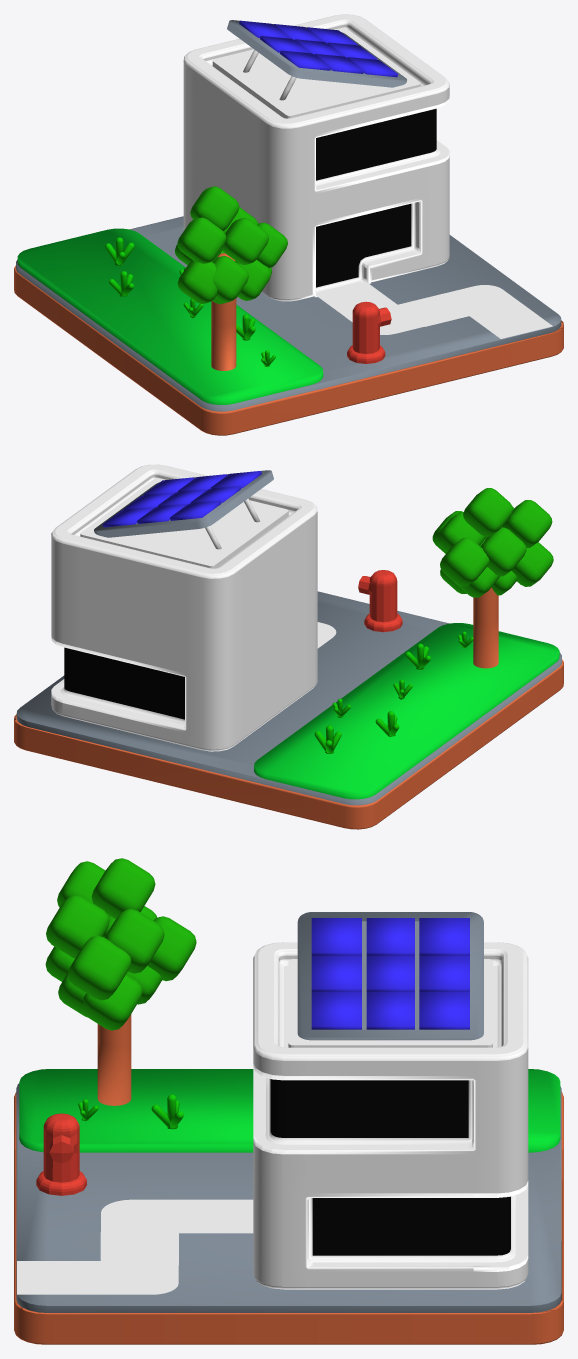
File: Modell.gltf
3 renders of one model, top to bottom at view 1: azimuth 30°, elevation 25°; view 2: azimuth 150°, elevation 25°; view 3: azimuth 270°, elevation 25°, orthographic. The views are drawn at different scales.
Parts seen in each view (by area): view 1: Plane, Plane.002, Plane.001, Plane.003, Cube, Plane.006, Plane.005, Plane.004, Plane.009, Circle, Circle.004, Plane.012 (+2 smaller); view 2: Plane, Plane.002, Plane.001, Plane.003, Cube, Plane.006, Plane.005, Plane.004, Circle, Circle.004; view 3: Plane, Plane.001, Plane.002, Plane.003, Plane.005, Cube, Plane.004, Plane.009, Plane.006, Circle, Plane.012, Circle.004 (+3 smaller).
Boxes of the visible parts, box(x1,y1,x2,y2) form: Plane: box(183, 14, 449, 301); Plane.002: box(17, 228, 323, 404); Plane.001: box(16, 216, 561, 411); Plane.003: box(14, 265, 563, 435); Cube: box(175, 186, 287, 304); Plane.006: box(212, 28, 420, 118); Plane.005: box(239, 20, 398, 77); Plane.004: box(227, 20, 406, 87); Plane.009: box(316, 283, 426, 334); Circle: box(347, 301, 391, 363); Circle.004: box(211, 253, 236, 370); Plane.012: box(468, 302, 552, 338); Plane: box(51, 464, 317, 751); Plane.002: box(254, 623, 559, 799); Plane.001: box(16, 591, 561, 805); Plane.003: box(14, 659, 563, 829); Cube: box(432, 488, 553, 597); Plane.006: box(80, 478, 288, 568); Plane.005: box(102, 471, 261, 527); Plane.004: box(94, 470, 273, 537); Circle: box(358, 570, 402, 632); Circle.004: box(473, 587, 498, 668); Plane: box(253, 942, 528, 1289); Plane.001: box(16, 1083, 561, 1312); Plane.002: box(19, 1069, 560, 1152); Plane.003: box(14, 1092, 563, 1344); Plane.005: box(311, 918, 469, 1029); Cube: box(45, 858, 196, 1030); Plane.004: box(297, 912, 483, 1040); Plane.009: box(101, 1199, 253, 1233); Plane.006: box(288, 959, 492, 1047); Circle: box(36, 1113, 86, 1195); Plane.012: box(17, 1261, 103, 1294); Circle.004: box(97, 1014, 131, 1105).
Size of the model in its own units: 7.98 by 5.12 by 7.88.
